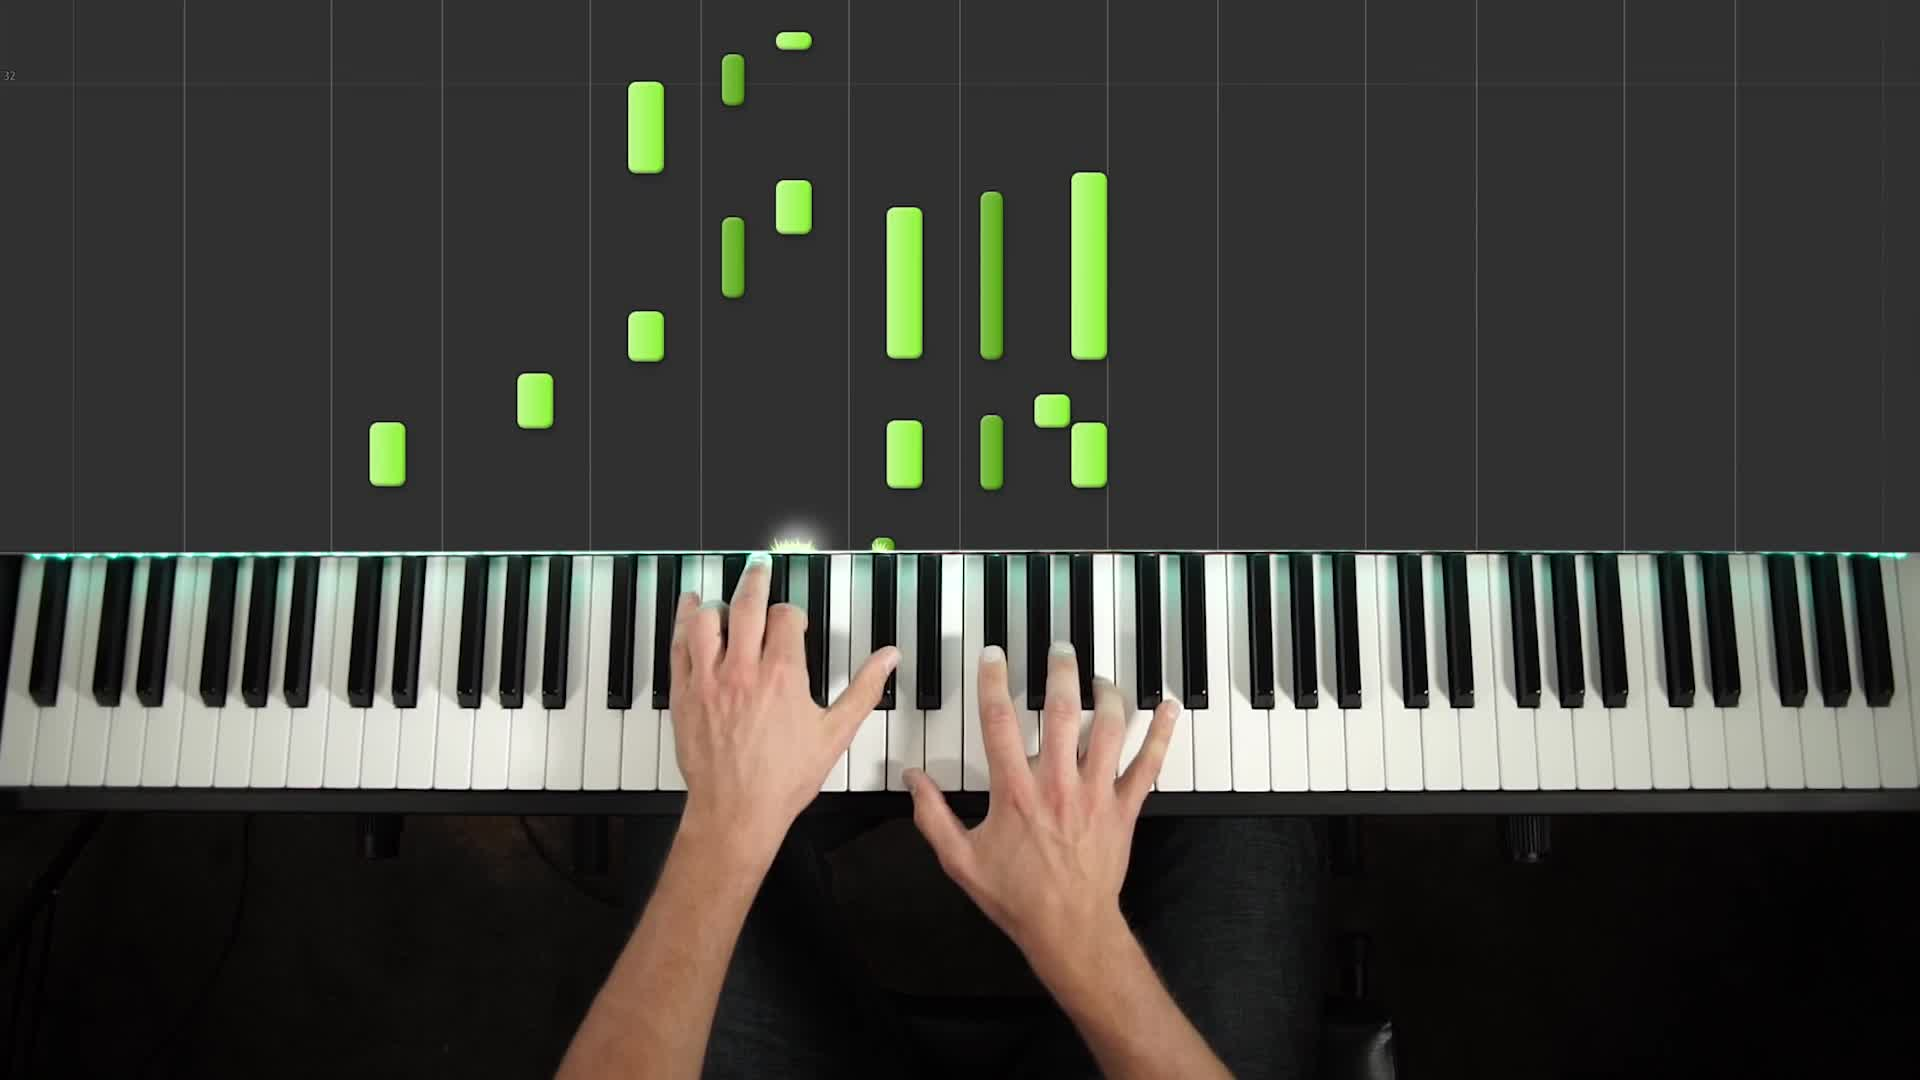left: (667, 549, 901, 803)
right: (898, 636, 1180, 936)
